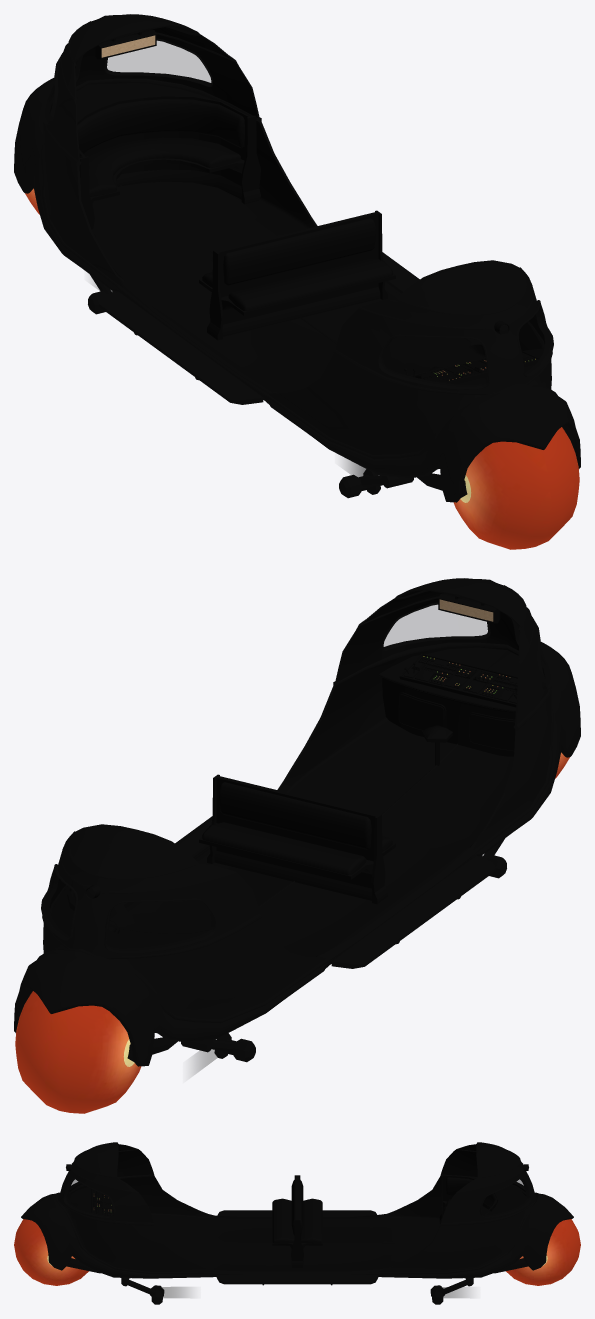
Rendered from train-01-art.glb.
The picture shows the model from 3 angles, top to bottom: view 1: azimuth 30°, elevation 25°; view 2: azimuth 150°, elevation 25°; view 3: azimuth 270°, elevation 25°; orthographic projection. The views are drawn at different scales.
Parts seen in each view (by area): view 1: Train_01_Art; view 2: Train_01_Art; view 3: Train_01_Art.
Boxes of the visible parts, <box> form: Train_01_Art: <box>14,14,580,549</box>; Train_01_Art: <box>14,578,580,1113</box>; Train_01_Art: <box>14,1142,580,1304</box>.
Size of the model in its own units: 5.02 by 4.35 by 16.59.
Materials: 5 (4 with a texture image).
